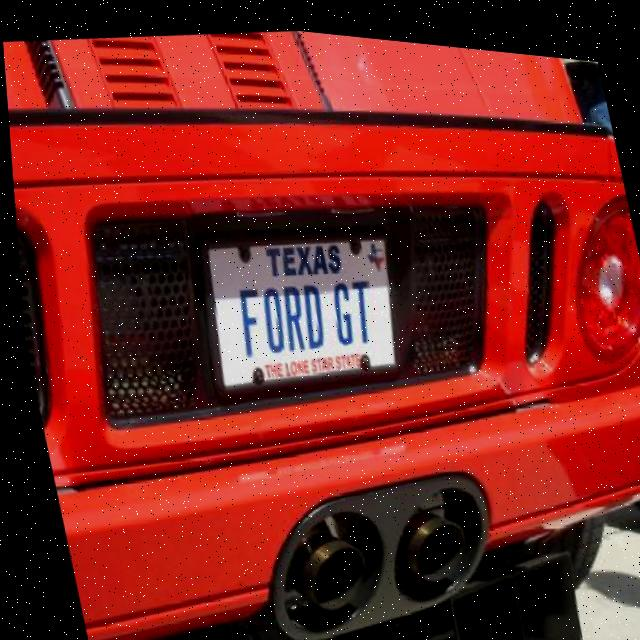license_plate: (181, 210, 421, 413)
